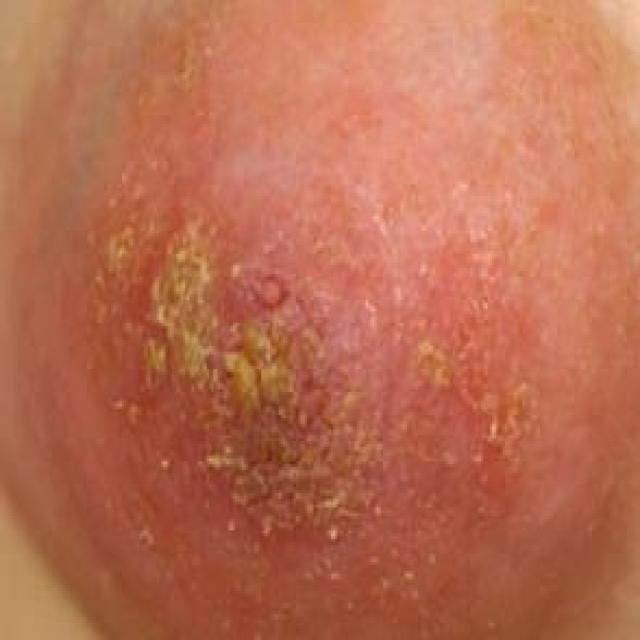Eczema: (70, 166, 523, 622)
